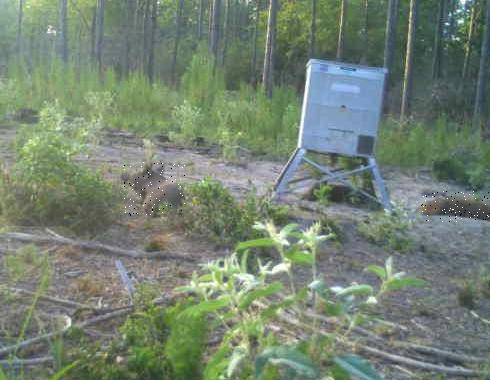Hog: (123, 162, 185, 216), (419, 191, 490, 222)
